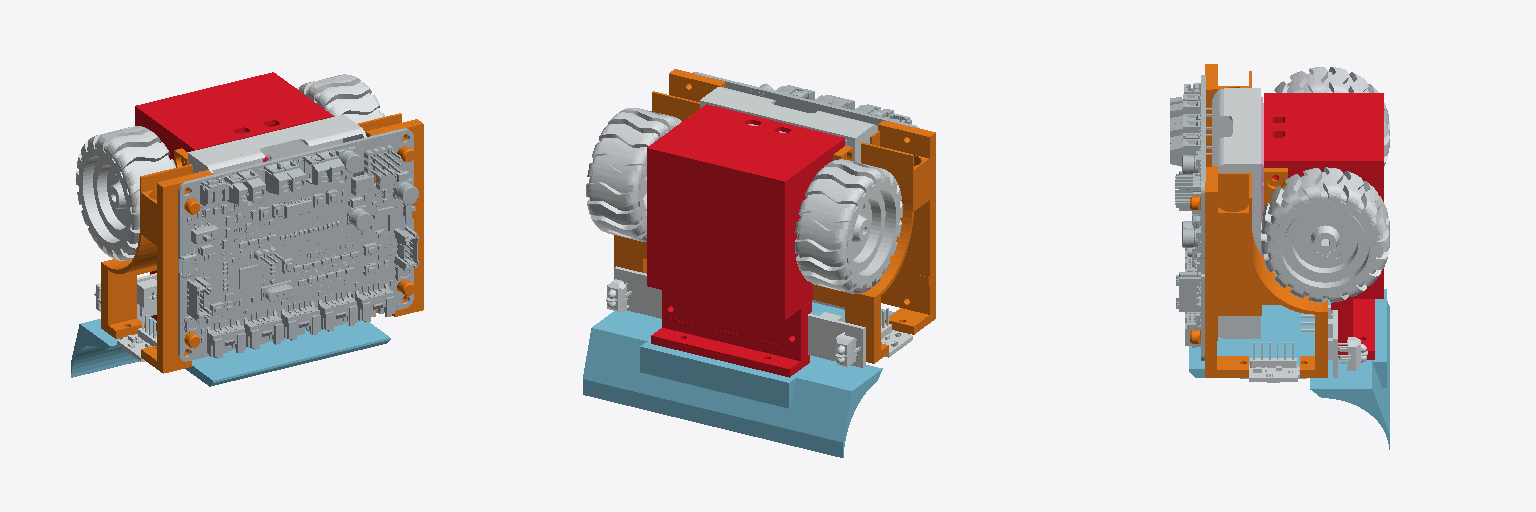
The model's file is tinker.obj.
3 renders of one model, left to right at view 1: azimuth 30°, elevation 25°; view 2: azimuth 150°, elevation 25°; view 3: azimuth 270°, elevation 25°, orthographic.
Visible parts, largest first — view 1: obj_0; view 2: obj_0; view 3: obj_0.
Boxes of the visible parts, x1,y1,x2,y2 form: obj_0: [71, 72, 423, 386]; obj_0: [583, 69, 935, 457]; obj_0: [1170, 64, 1389, 449].
Size of the model in its own units: 98.1 by 93.75 by 71.5.